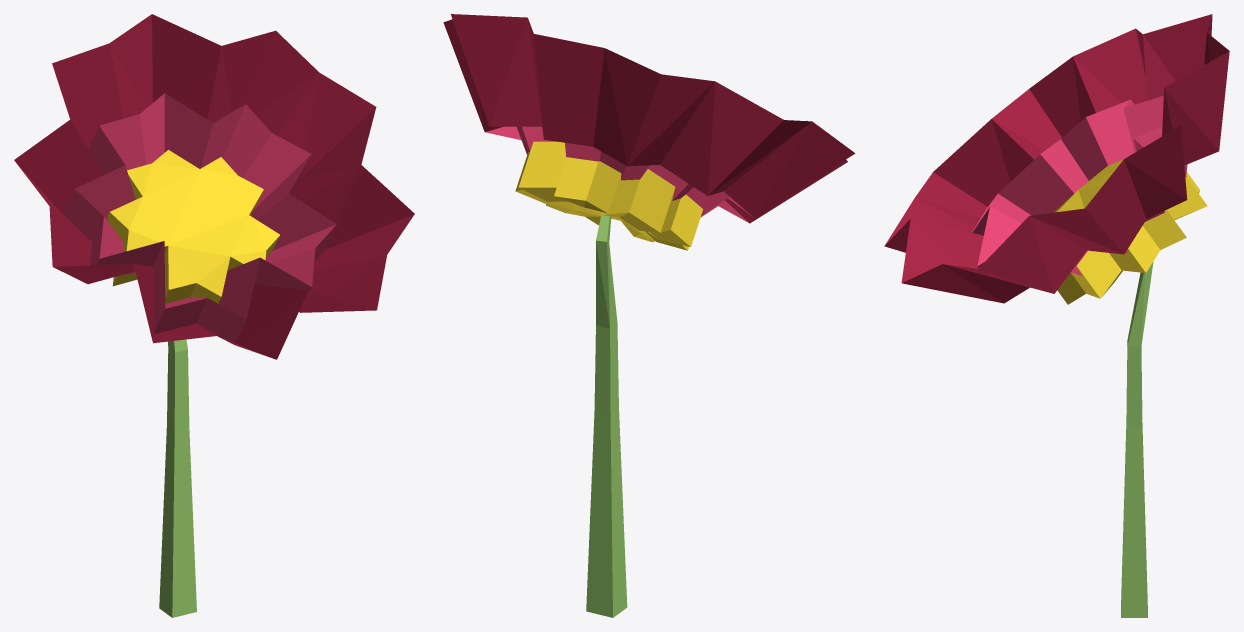
Rendered from flower01_red.fbx.
3 views of the same model, side by side, from view 1: azimuth 30°, elevation 25°; view 2: azimuth 150°, elevation 25°; view 3: azimuth 270°, elevation 25° (orthographic). The views are drawn at different scales.
Visible parts, largest first — view 1: flower01_red_LOD0; view 2: flower01_red_LOD0; view 3: flower01_red_LOD0.
Boxes of the visible parts, x1,y1,x2,y2 form: flower01_red_LOD0: (14,14,414,617); flower01_red_LOD0: (443,14,855,617); flower01_red_LOD0: (884,14,1229,617).
Size of what is drawn, in the model's own units: 57.01 by 86.48 by 47.41.
